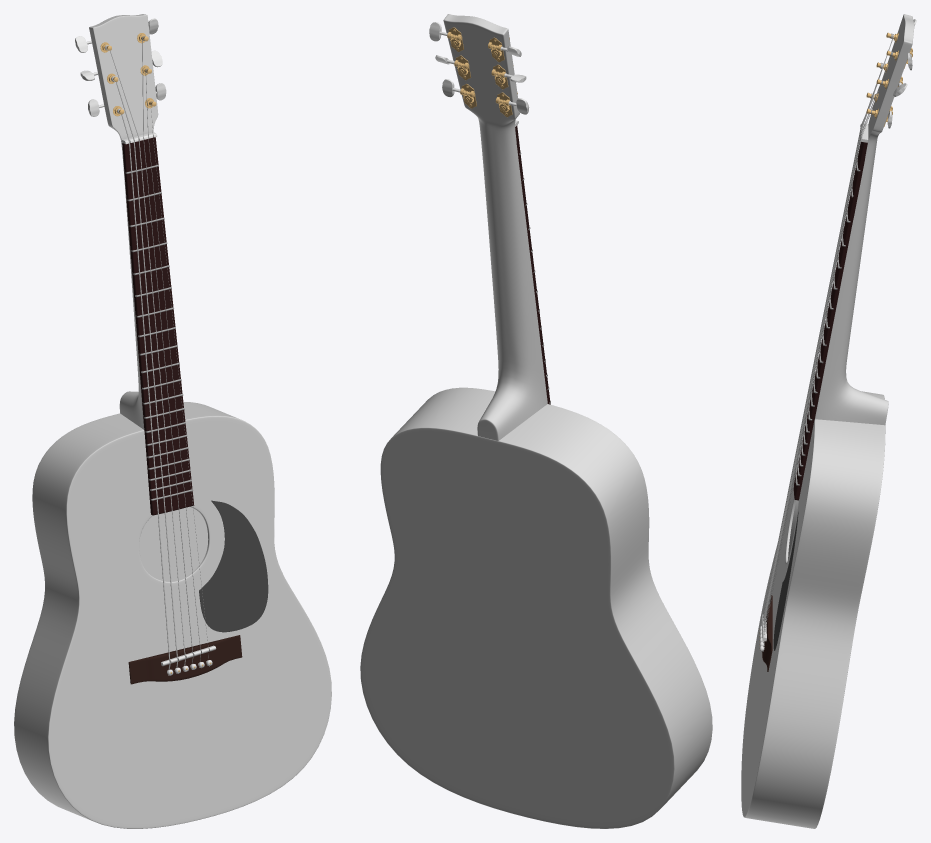
The model's file is acoustic_guitar.blend.fbx.
3 views of the same model, side by side, from view 1: azimuth 30°, elevation 25°; view 2: azimuth 150°, elevation 25°; view 3: azimuth 270°, elevation 25° (orthographic). The views are drawn at different scales.
Visible parts, largest first — view 1: guitar-body, guitar-fretboard, guitar-neck, guitar-pick_guard, guitar-bridge, string.004, string.005, string.003, string.002, string.001; view 2: guitar-body, guitar-neck, guitar-fretboard; view 3: guitar-body, guitar-neck, guitar-fretboard, string.004, string.003, string.002, guitar-pick_guard, string.005, string.001, guitar-bridge, string.000.
Part boxes in pixels (x1,y1,x2,y2): guitar-body: [14, 402, 331, 828]; guitar-fretboard: [122, 137, 194, 515]; guitar-neck: [89, 14, 158, 429]; guitar-pick_guard: [199, 500, 268, 632]; guitar-bridge: [128, 635, 242, 684]; string.004: [111, 76, 178, 667]; string.005: [117, 108, 170, 669]; string.003: [105, 45, 185, 665]; string.002: [142, 36, 193, 663]; string.001: [145, 68, 200, 661]; guitar-body: [360, 387, 712, 828]; guitar-neck: [443, 14, 547, 440]; guitar-fretboard: [515, 125, 550, 404]; guitar-body: [741, 384, 885, 828]; guitar-neck: [815, 14, 914, 425]; guitar-fretboard: [793, 142, 867, 500]; string.004: [763, 62, 883, 621]; string.003: [763, 33, 893, 624]; string.002: [764, 51, 893, 627]; guitar-pick_guard: [773, 511, 798, 650]; string.005: [763, 93, 874, 617]; string.001: [764, 80, 883, 642]; guitar-bridge: [762, 595, 772, 671]; string.000: [764, 110, 872, 646].
Size of the model in its own units: 365 by 930 by 191.
